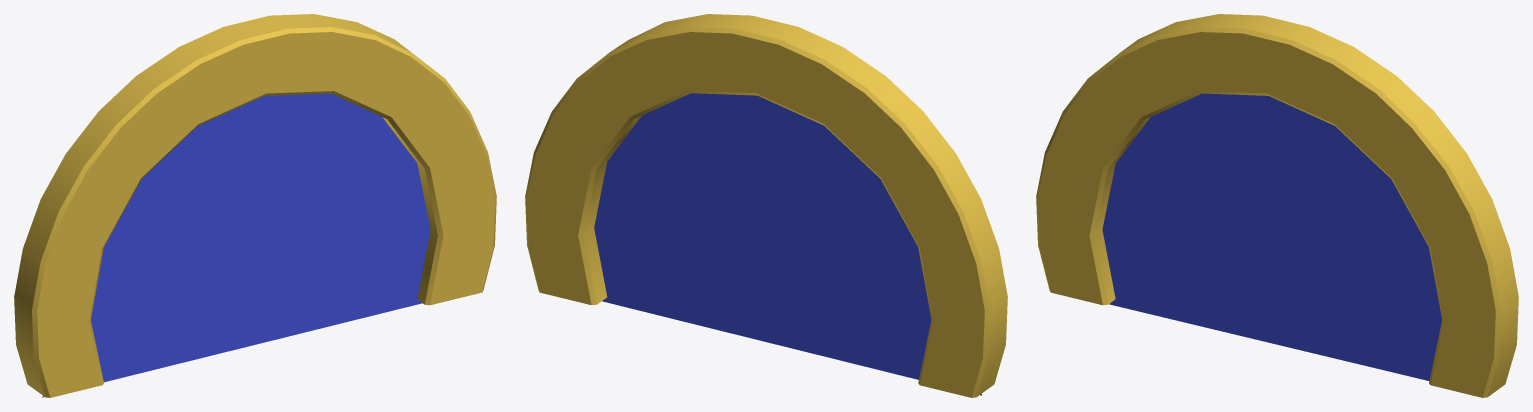
File: SM_Gun_Sight.fbx
3 renders of one model, left to right at view 1: azimuth 30°, elevation 25°; view 2: azimuth 150°, elevation 25°; view 3: azimuth 330°, elevation 25°, orthographic.
Parts seen in each view (by area): view 1: Cylinder; view 2: Cylinder; view 3: Cylinder.
Part boxes in pixels (x1=…): Cylinder: x1=14, y1=14, x2=496, y2=397; Cylinder: x1=525, y1=14, x2=1007, y2=397; Cylinder: x1=1036, y1=14, x2=1518, y2=397.
Bounding box in the file's own units: 19.82 × 12.9 × 1.6.
